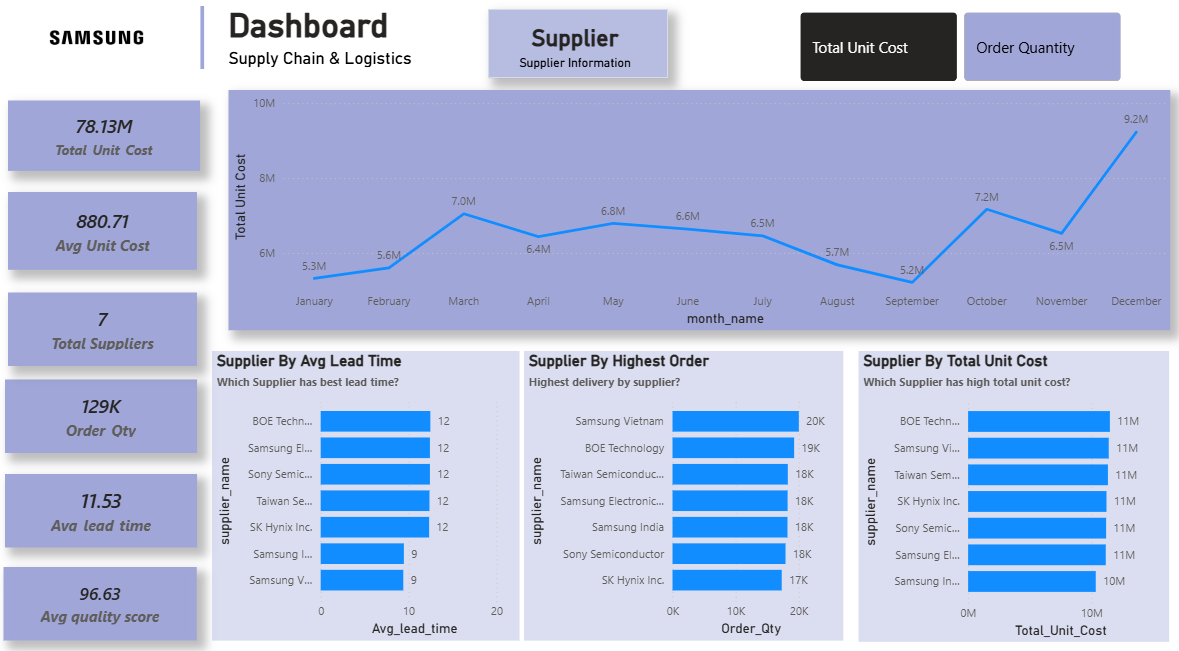

What the dashboard file says about the page in this screenshot:
{"tool":"powerbi","page":{"name":"Supplier","canvas":[1280,720],"ordinal":2},"visuals":[{"type":"shape","box":[531.6,19.4,194.3,74.5],"z":0},{"type":"shape","title":"Supplier","box":[551.1,35.1,149,48.6],"z":1000},{"type":"shape","title":"Dashboard","box":[251,16.2,205.6,84.2],"z":2000},{"type":"shape","box":[212.1,16.2,21,68],"z":3000},{"type":"image","box":[16.2,0,184.6,100.4],"z":4000},{"type":"cardVisual","fields":{"Data":["New_Measures.Order_Qty"]},"box":[9.7,419.4,207.3,79.3],"z":5000},{"type":"cardVisual","fields":{"Data":["New_Measures.Avg_lead_time"]},"box":[9.7,521.4,207.3,79.3],"z":6000},{"type":"cardVisual","fields":{"Data":["fact_procurement.Avg_quality_score"]},"box":[8.1,621.8,208.9,79.3],"z":7000},{"type":"cardVisual","fields":{"Data":["Avg(fact_procurement.Avg_Unit_Cost)"]},"box":[13,217,204,84.2],"z":8000},{"type":"cardVisual","fields":{"Data":["fact_procurement.Total_Unit_Cost"]},"box":[13,118.2,207.3,76.1],"z":9000},{"type":"barChart","title":"Supplier By Avg Lead Time","fields":{"Y":["New_Measures.Avg_lead_time"],"Category":["dim_supplier.supplier_name"]},"box":[233.2,388.6,331.9,312.5],"z":10000},{"type":"cardVisual","fields":{"Data":["Count(fact_procurement.supplier_id)"]},"box":[13,325.5,204,79.3],"z":11000},{"type":"barChart","title":"Supplier By Highest Order","fields":{"Y":["New_Measures.Order_Qty"],"Category":["dim_supplier.supplier_name"]},"box":[570,388.6,344.9,312.5],"z":12000},{"type":"barChart","title":"Supplier By Total Unit Cost","fields":{"Category":["dim_supplier.supplier_name"],"Y":["fact_procurement.Total_Unit_Cost"]},"box":[931.1,388.6,335.2,314.1],"z":13000},{"type":"lineChart","fields":{"Y":["fact_procurement.Total_Unit_Cost"],"Category":["dim_date.month_name"]},"box":[251,106.9,1016.9,259.1],"z":14000},{"type":"advancedSlicerVisual","fields":{"Values":["Supplier_Cost_Quantity.Supplier_Cost_Quantity"]},"box":[863,17.8,357.8,84.2],"z":15001}]}

Visuals, with their boxes in screenshot pixels (x1, y1, x2, y2), scaled from the page's 1280x720 canvas onto the 1179x651 screenshot:
shape: {"x1": 490, "y1": 18, "x2": 669, "y2": 85}
"Supplier" shape: {"x1": 508, "y1": 32, "x2": 645, "y2": 76}
"Dashboard" shape: {"x1": 231, "y1": 15, "x2": 421, "y2": 91}
shape: {"x1": 195, "y1": 15, "x2": 215, "y2": 76}
image: {"x1": 15, "y1": 0, "x2": 185, "y2": 91}
cardVisual - New_Measures.Order_Qty: {"x1": 9, "y1": 379, "x2": 200, "y2": 451}
cardVisual - New_Measures.Avg_lead_time: {"x1": 9, "y1": 471, "x2": 200, "y2": 543}
cardVisual - fact_procurement.Avg_quality_score: {"x1": 7, "y1": 562, "x2": 200, "y2": 634}
cardVisual - Avg(fact_procurement.Avg_Unit_Cost): {"x1": 12, "y1": 196, "x2": 200, "y2": 272}
cardVisual - fact_procurement.Total_Unit_Cost: {"x1": 12, "y1": 107, "x2": 203, "y2": 176}
"Supplier By Avg Lead Time" barChart: {"x1": 215, "y1": 351, "x2": 521, "y2": 634}
cardVisual - Count(fact_procurement.supplier_id): {"x1": 12, "y1": 294, "x2": 200, "y2": 366}
"Supplier By Highest Order" barChart: {"x1": 525, "y1": 351, "x2": 843, "y2": 634}
"Supplier By Total Unit Cost" barChart: {"x1": 858, "y1": 351, "x2": 1166, "y2": 635}
lineChart - fact_procurement.Total_Unit_Cost x dim_date.month_name: {"x1": 231, "y1": 97, "x2": 1168, "y2": 331}
advancedSlicerVisual - Supplier_Cost_Quantity.Supplier_Cost_Quantity: {"x1": 795, "y1": 16, "x2": 1124, "y2": 92}
